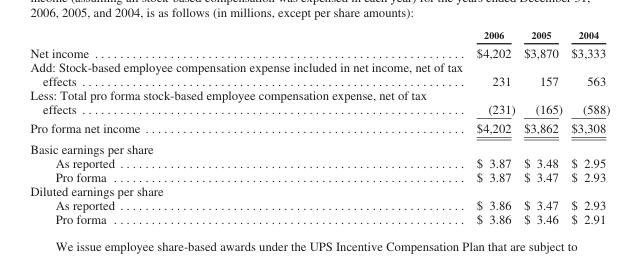table: (29, 28, 609, 225)
table column: (29, 28, 468, 225), (468, 28, 518, 225), (518, 28, 566, 225), (566, 28, 609, 225)
table column header: (29, 28, 609, 43)
table projected row header: (29, 138, 609, 155), (29, 183, 609, 197)
table row: (29, 87, 609, 117), (29, 59, 609, 87), (29, 117, 609, 138), (29, 138, 609, 155), (29, 43, 609, 59), (29, 28, 609, 43), (29, 155, 609, 169), (29, 169, 609, 183), (29, 183, 609, 197), (29, 197, 609, 211), (29, 211, 609, 225)
